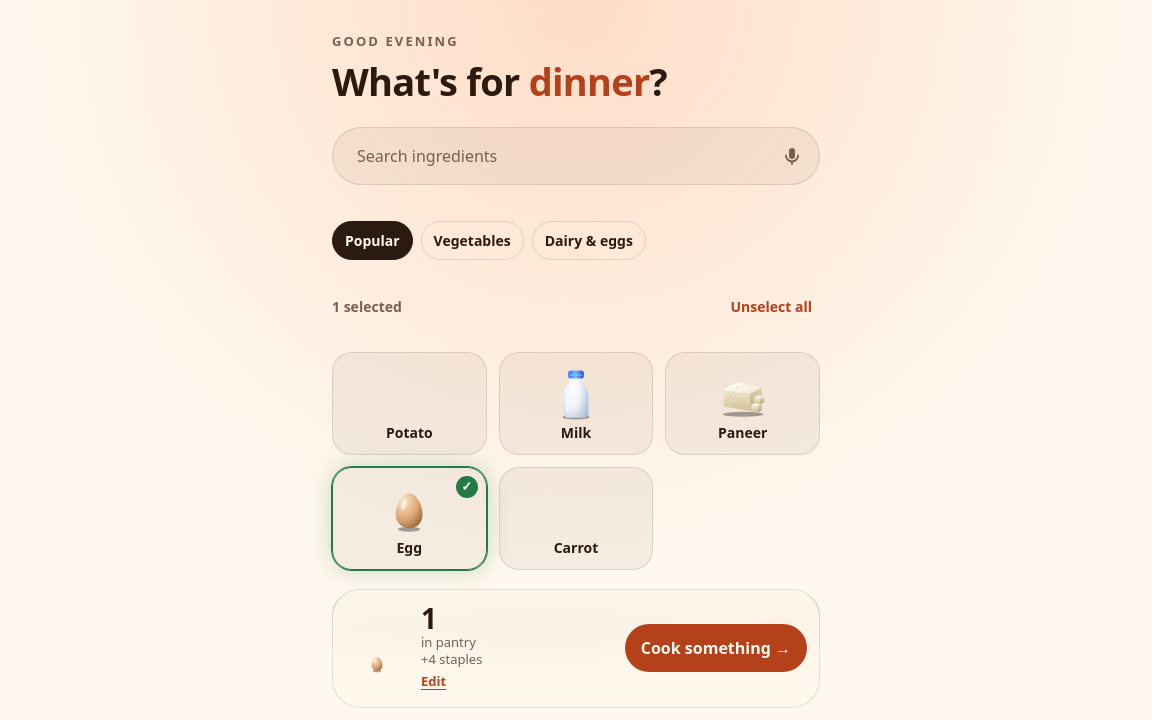
Test case: a sentence naming no ingredient says so
Check: the button "Potato" is shown, box [332,352,487,455]
Step 1. Click the button named "Say what you have" → [792, 156], box [772,136,812,176]
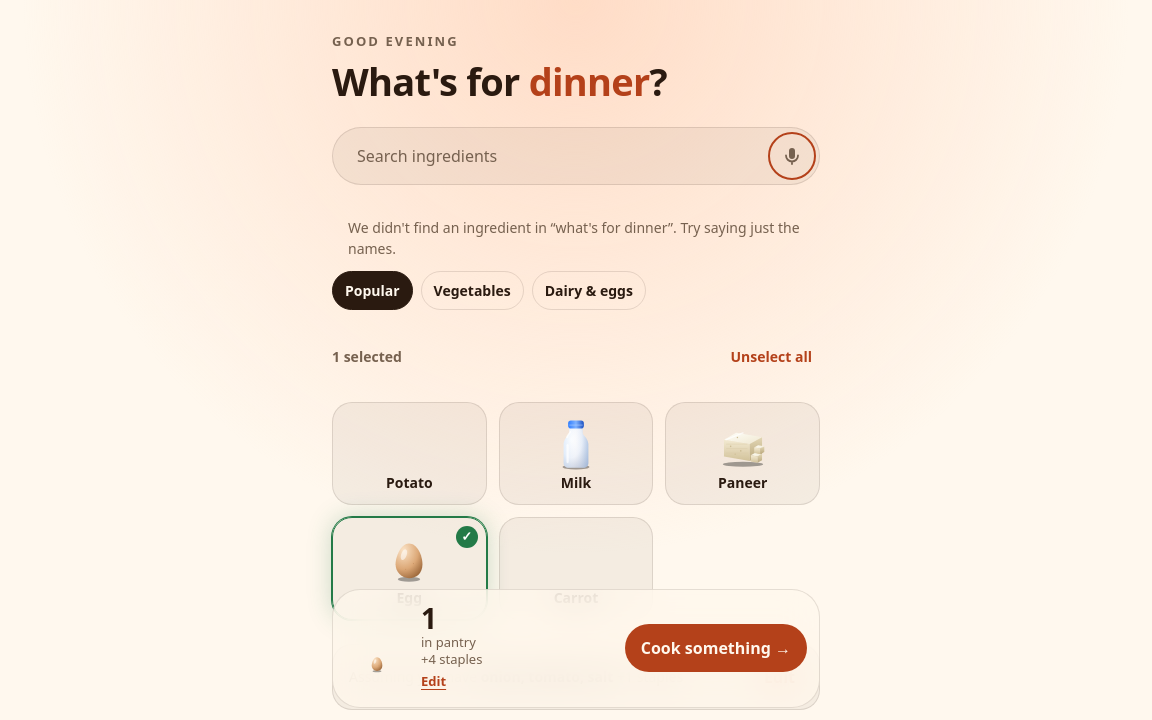
Check: the text "We didn't find an ingredient in “what's for dinner”" is shown, box [348,218,800,258]
